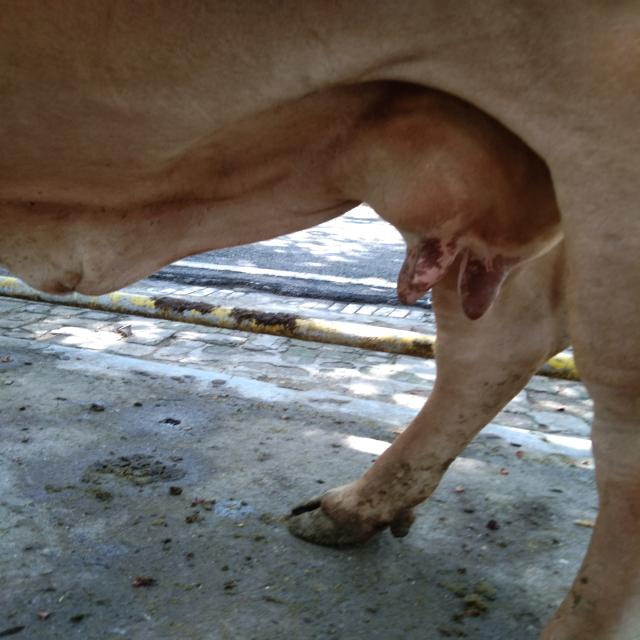Hoof: (285, 485, 415, 548)
